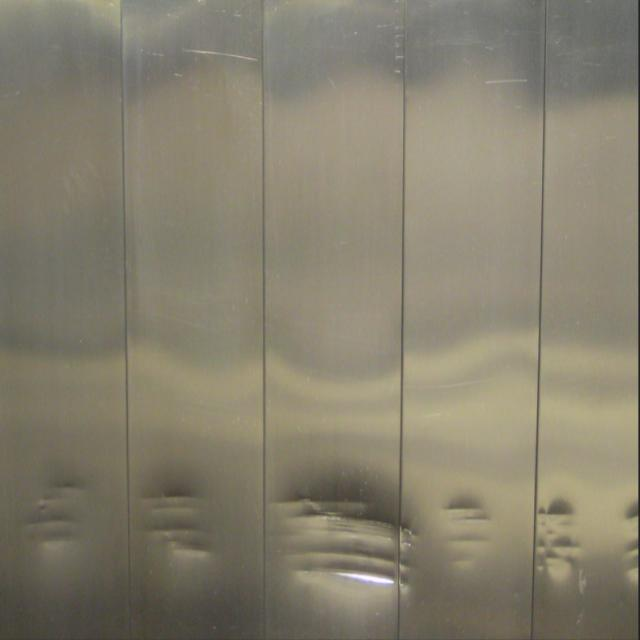dents: (264, 459, 404, 630), (126, 444, 215, 581), (13, 446, 99, 581), (435, 470, 494, 611), (531, 476, 593, 601), (611, 484, 640, 595)
